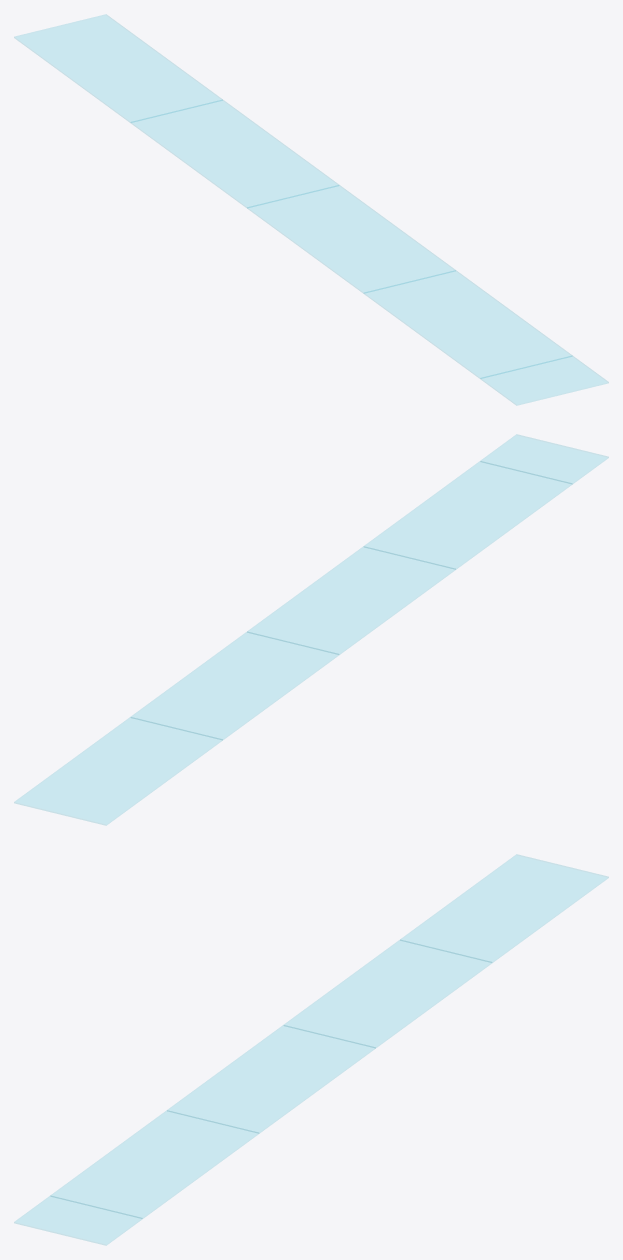
3 renders of one model, top to bottom at view 1: azimuth 30°, elevation 25°; view 2: azimuth 150°, elevation 25°; view 3: azimuth 330°, elevation 25°, orthographic.
Parts seen in each view (by area): view 1: 0_3_1_1_1_2_0_2_2; view 2: 0_3_1_1_1_2_0_2_2; view 3: 0_3_1_1_1_2_0_2_2.
Part boxes in pixels (x1=…): 0_3_1_1_1_2_0_2_2: x1=14, y1=15, x2=608, y2=404; 0_3_1_1_1_2_0_2_2: x1=14, y1=435, x2=608, y2=824; 0_3_1_1_1_2_0_2_2: x1=14, y1=855, x2=608, y2=1244.
Bounding box in the file's own units: 1.83 × 0.025 × 17.25.
